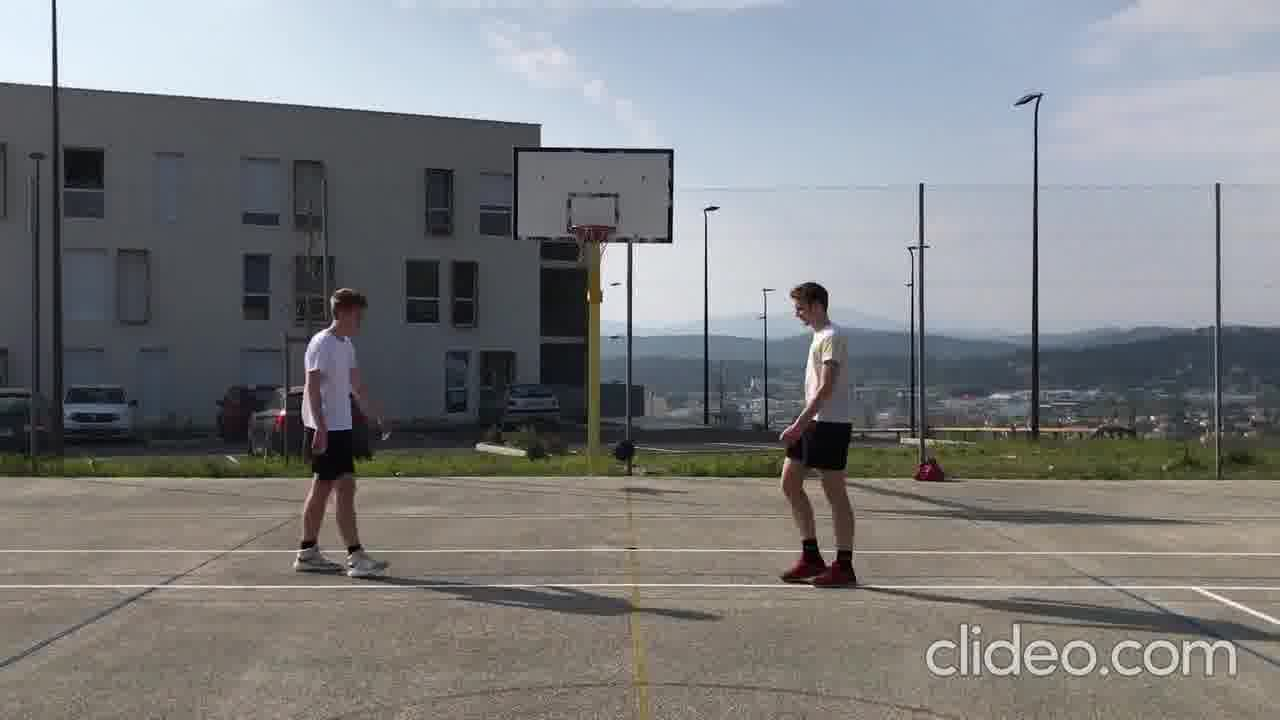jugador: (763, 275, 869, 596)
